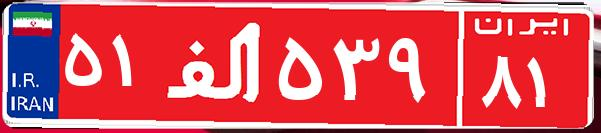1: (110, 28, 158, 105), (525, 38, 570, 115)
3: (330, 28, 385, 110)
5: (273, 28, 330, 110), (57, 26, 110, 107)
8: (475, 38, 525, 113)
9: (385, 28, 445, 110)
الف: (158, 15, 273, 115)
